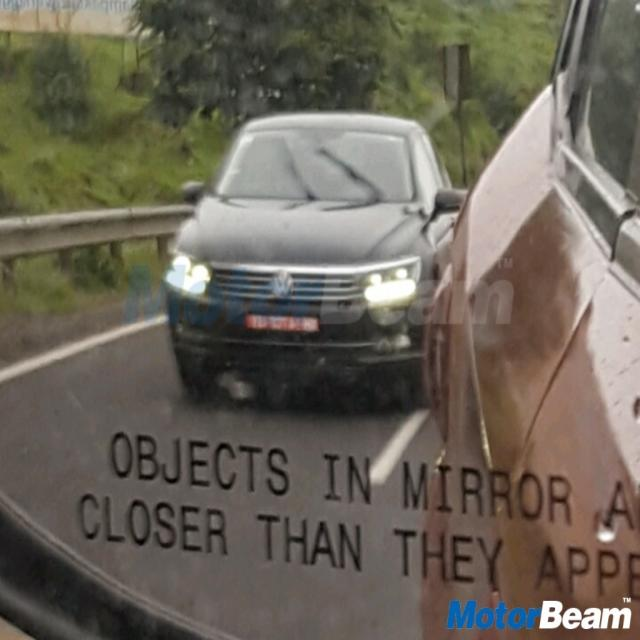num_plate: (206, 290, 375, 374)
number_plate: (241, 309, 328, 338)
